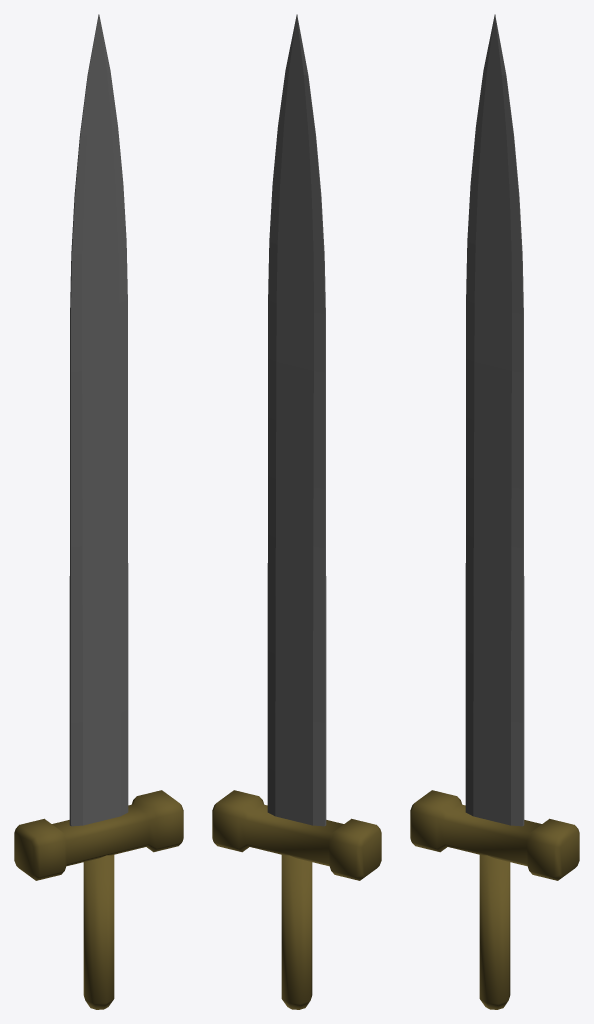
File: Sword.gltf
The picture shows the model from 3 angles, left to right: view 1: azimuth 30°, elevation 25°; view 2: azimuth 150°, elevation 25°; view 3: azimuth 330°, elevation 25°; orthographic projection.
Visible parts, largest first — view 1: Cube.001, Cube, SwordHandle; view 2: Cube.001, Cube, SwordHandle; view 3: Cube.001, Cube, SwordHandle.
Part boxes in pixels (<box>): Cube.001: <box>69,14,128,826</box>; Cube: <box>14,790,183,880</box>; SwordHandle: <box>83,855,114,1009</box>; Cube.001: <box>267,14,326,826</box>; Cube: <box>212,790,381,880</box>; SwordHandle: <box>281,855,312,1009</box>; Cube.001: <box>465,14,524,826</box>; Cube: <box>410,790,579,880</box>; SwordHandle: <box>479,855,510,1009</box>.
Bounding box in the file's own units: 0.2047 × 1.29 × 0.057.
